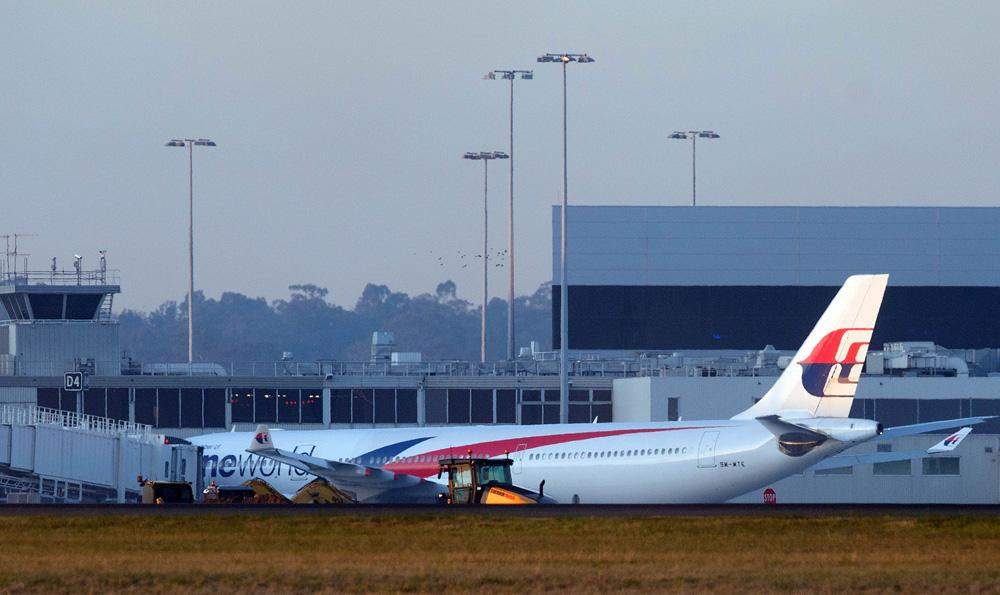airplane: (194, 272, 921, 502)
